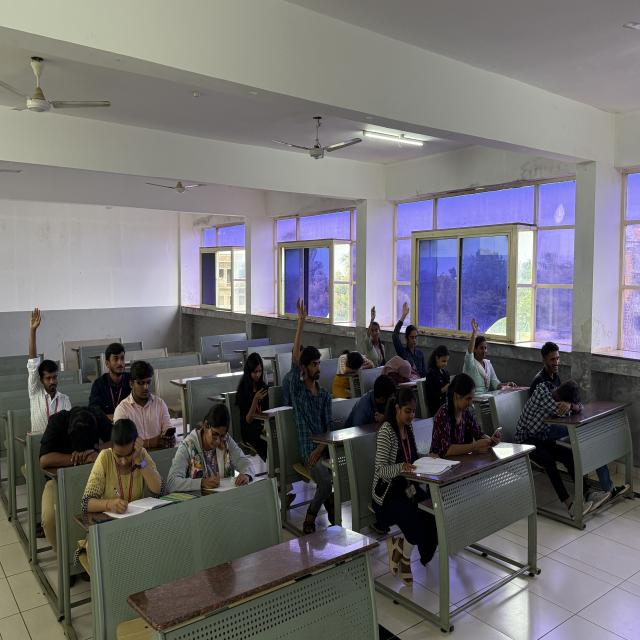Hand Rising: (279, 293, 336, 454), (20, 306, 84, 419), (455, 308, 510, 391), (389, 290, 432, 366), (360, 292, 390, 366)
Reading: (381, 388, 458, 501)
Sleeping: (34, 402, 119, 490), (518, 370, 588, 436), (334, 329, 374, 389), (376, 350, 422, 388)
Using Phone: (114, 354, 184, 454), (219, 336, 287, 436), (432, 381, 505, 464), (421, 338, 461, 404)
Writing: (168, 384, 263, 510), (82, 402, 175, 524)
